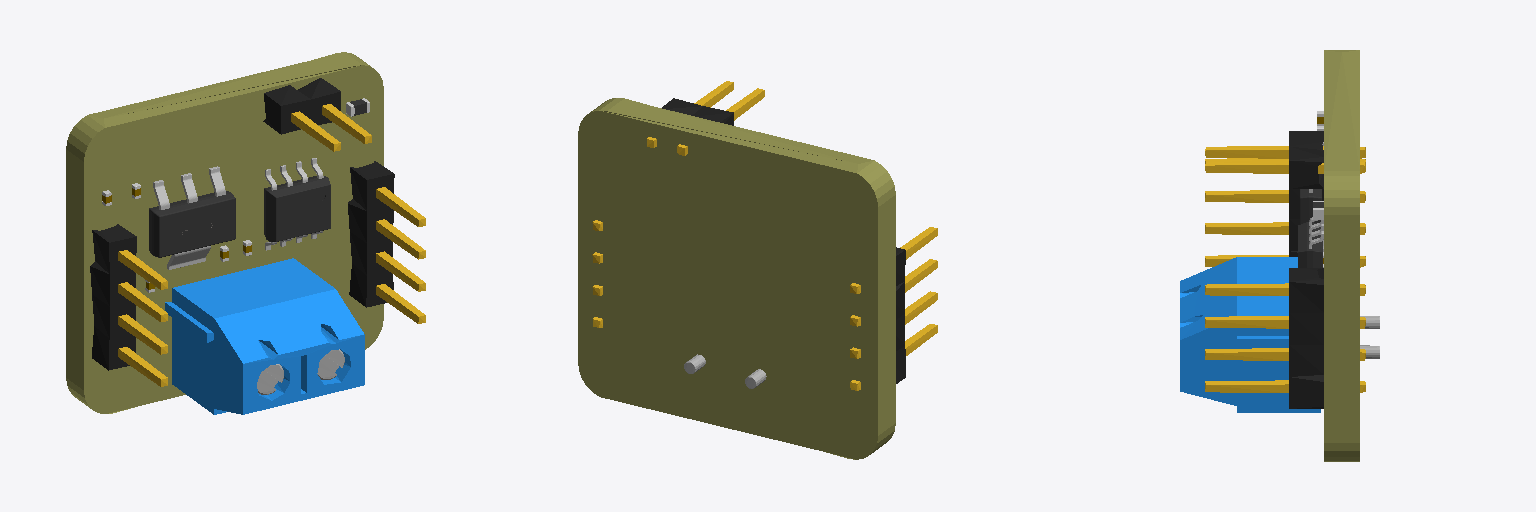
File: OBJ_PCB_Satima_s1b.obj
3 renders of one model, left to right at view 1: azimuth 30°, elevation 25°; view 2: azimuth 150°, elevation 25°; view 3: azimuth 270°, elevation 25°, orthographic.
Bounding box in the file's own units: 97.23 × 89.35 × 56.28.